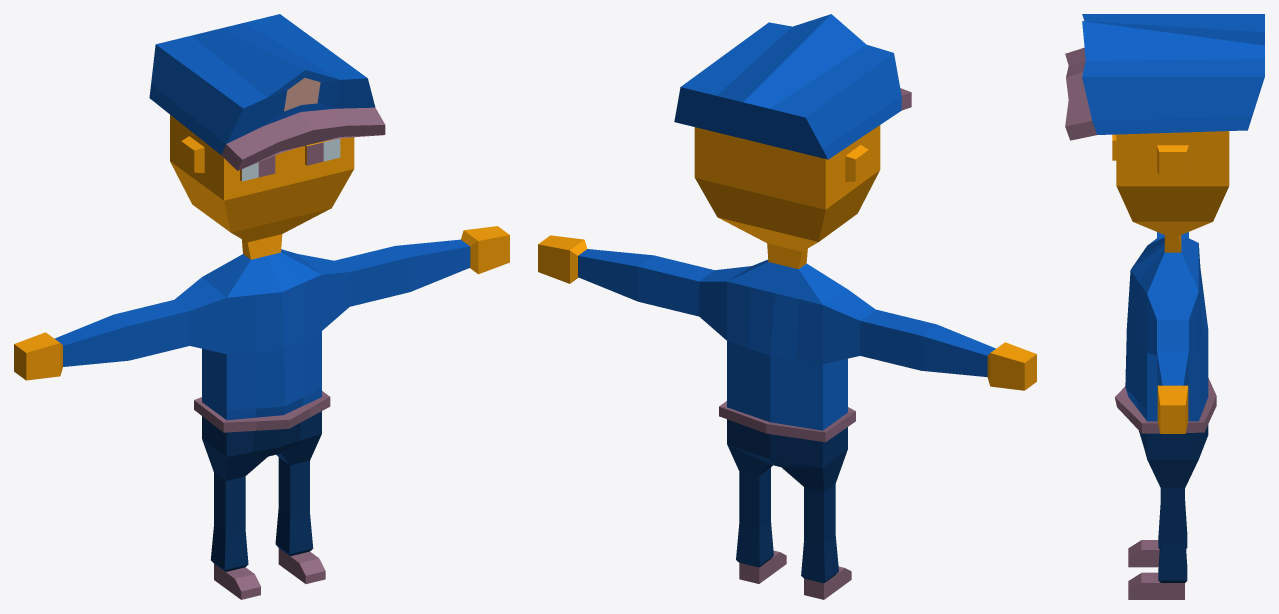
File: Low_Poly_Police_Man_3d_Model.glb
3 views of the same model, side by side, from view 1: azimuth 30°, elevation 25°; view 2: azimuth 150°, elevation 25°; view 3: azimuth 270°, elevation 25° (orthographic). The views are drawn at different scales.
Parts seen in each view (by area): view 1: PoliceMan_Material_0, Hat_Material_0; view 2: PoliceMan_Material_0, Hat_Material_0; view 3: PoliceMan_Material_0, Hat_Material_0.
Part boxes in pixels (box(x1,y1,x2,y2)): PoliceMan_Material_0: box(14, 115, 509, 599); Hat_Material_0: box(149, 14, 385, 170); PoliceMan_Material_0: box(538, 125, 1036, 599); Hat_Material_0: box(674, 14, 911, 159); PoliceMan_Material_0: box(1112, 131, 1229, 599); Hat_Material_0: box(1065, 14, 1264, 140).
Size of the model in its own units: 2.4 by 2.54 by 0.8236.
1 material, 1 textured.
